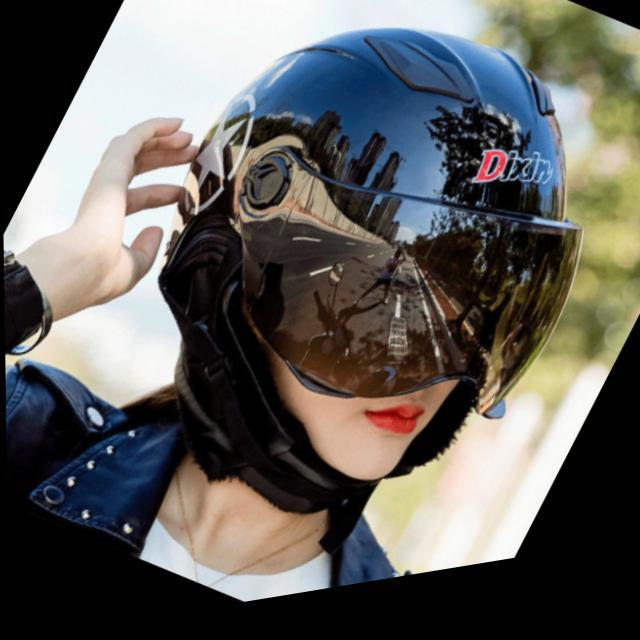Helmet: (149, 24, 583, 505)
